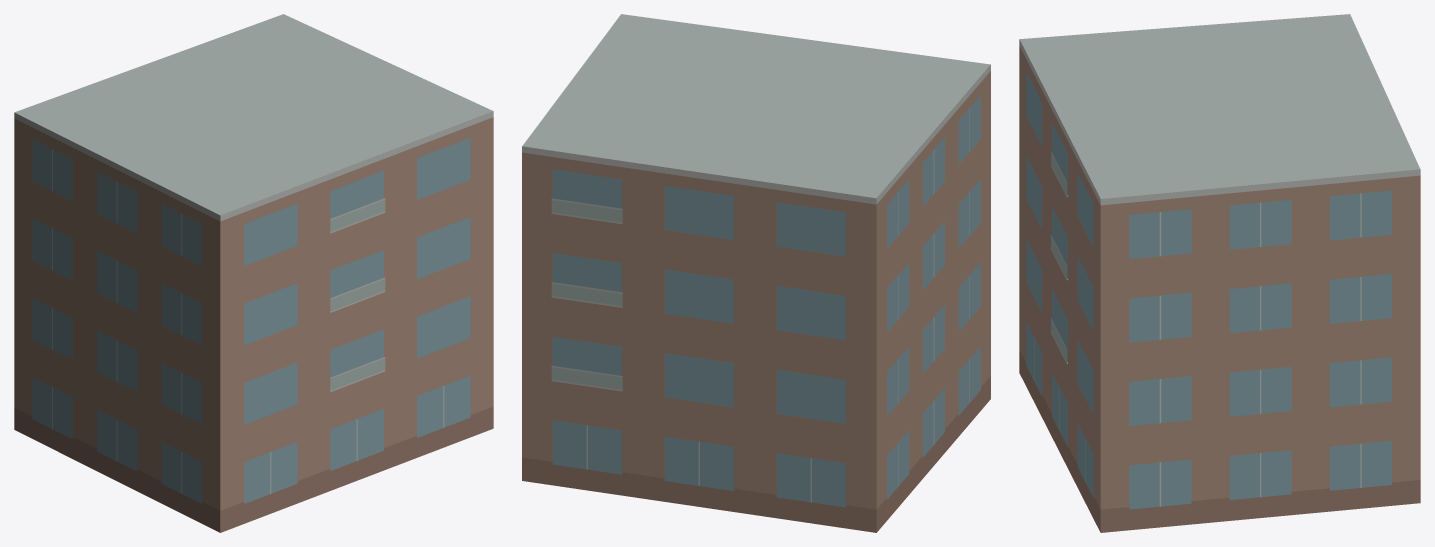
Rendered from survey-upis-32707668.glb.
3 views of the same model, side by side, from view 1: azimuth 30°, elevation 25°; view 2: azimuth 150°, elevation 25°; view 3: azimuth 270°, elevation 25° (orthographic). The views are drawn at different scales.
Visible parts, largest first — view 1: survey-upis-32707668.tmp; view 2: survey-upis-32707668.tmp; view 3: survey-upis-32707668.tmp.
Part boxes in pixels (x1,y1,x2,y2): survey-upis-32707668.tmp: [14, 14, 493, 532]; survey-upis-32707668.tmp: [522, 14, 990, 532]; survey-upis-32707668.tmp: [1019, 14, 1420, 532].
Bounding box in the file's own units: 15.66 × 13.15 × 14.34.
